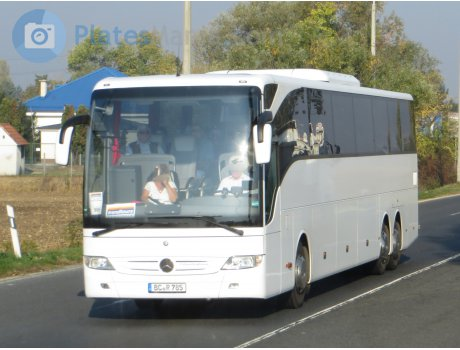License Plates: (150, 282, 184, 290)
